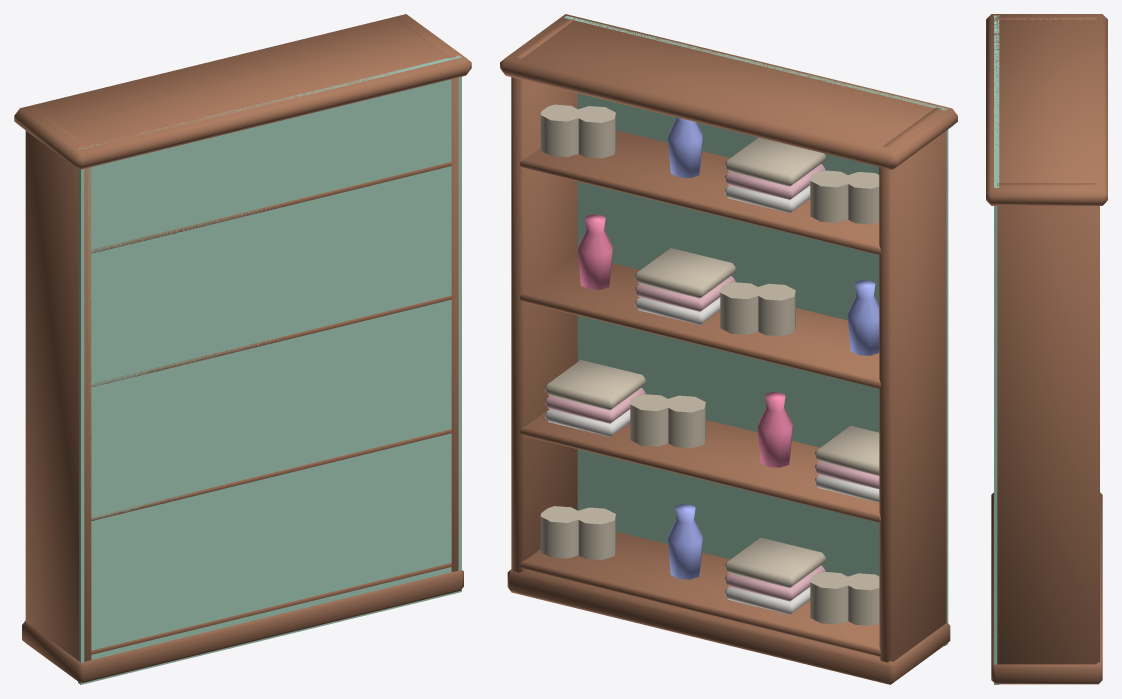
Rendered from bandage_shelf.glb.
3 views of the same model, side by side, from view 1: azimuth 30°, elevation 25°; view 2: azimuth 150°, elevation 25°; view 3: azimuth 270°, elevation 25° (orthographic). The views are drawn at different scales.
Visible parts, largest first — view 1: bandage_shelf; view 2: bandage_shelf; view 3: bandage_shelf.
Boxes of the visible parts, x1=… form: bandage_shelf: x1=14, y1=14, x2=471, y2=684; bandage_shelf: x1=500, y1=14, x2=957, y2=684; bandage_shelf: x1=986, y1=14, x2=1107, y2=684.
Size of what is drawn, in the model's own units: 1.4 by 1.8 by 0.4.
